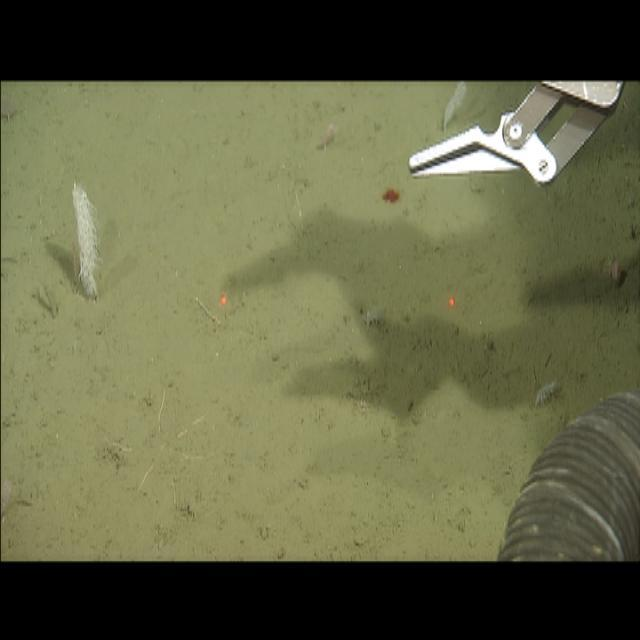Brittle Star: (100, 382, 220, 511)
Not Brittle Star: (66, 177, 106, 306), (532, 375, 560, 411)
